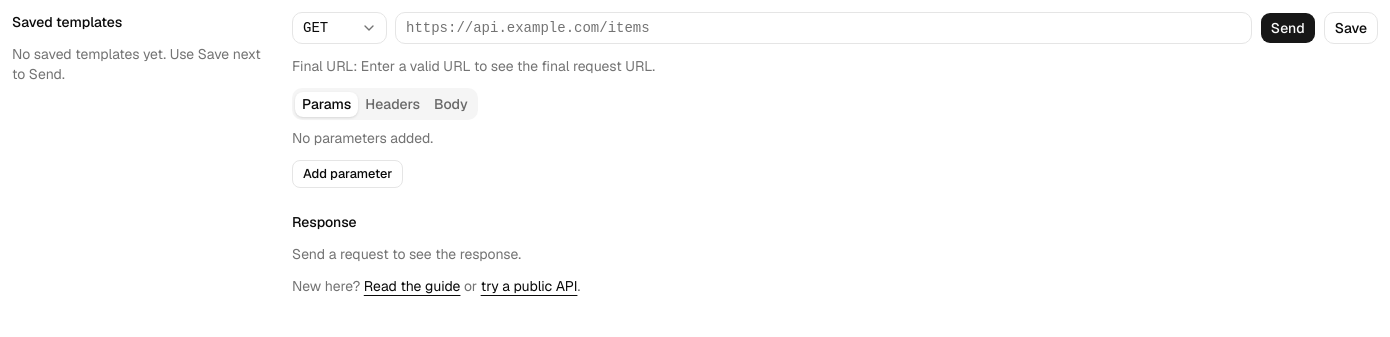
Test: Body tab (FR-01) › starts with no body and hides the editor
Click the tab "Body": (451, 104) [427,92,475,116]
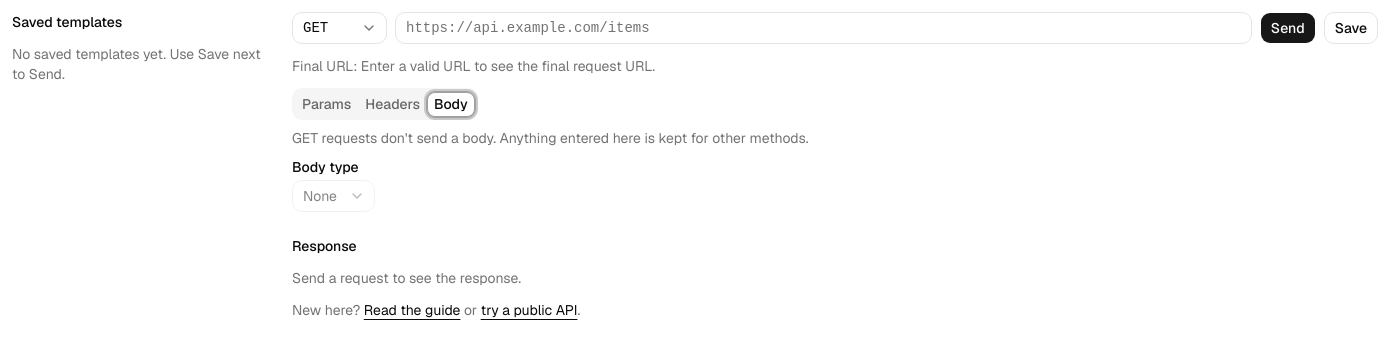
Now the dropdown labelled "Body type" shows "None", box [292,180,375,212]
